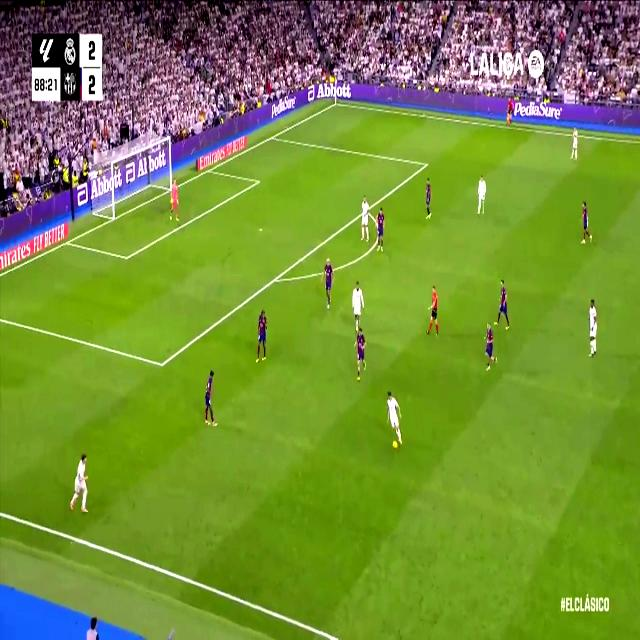bigarea_bottom_inner: (157, 352, 167, 376)
bigarea_top_inner: (423, 157, 428, 170)
bigarea_top_outter: (269, 131, 276, 142)
bottom_arc_area_intersection: (270, 269, 280, 288)
corner: (332, 99, 340, 108)
smallarea_bottom_inner: (123, 248, 131, 267)
smallarea_top_inner: (256, 176, 260, 186)
